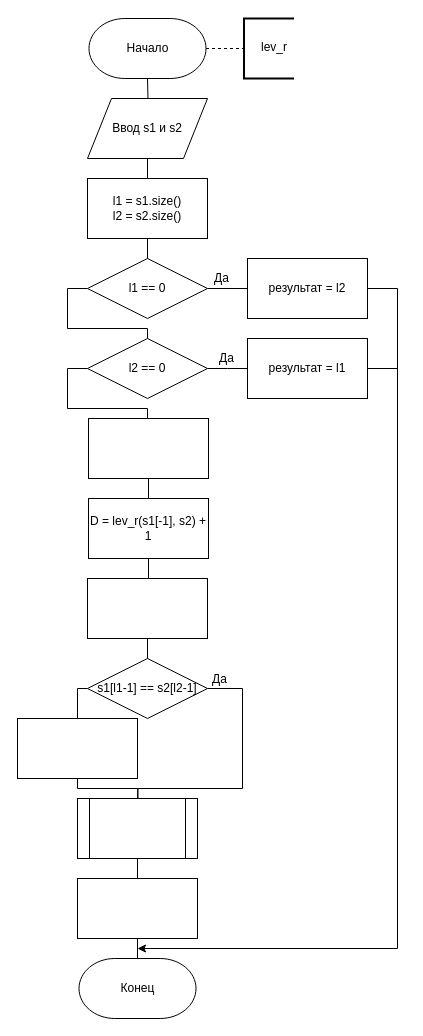
This 423x1036 diagram has some shape labels left out. The shapes that lost their labels are listed below. From the top down, each one's centre as x and y in pixels, then its label:
At point 148,448: "I = lev_r(s1, s2[-1]) + 1".
At point 147,608: "R = lev_r(s1[-1], s2[-1])".
At point 77,748: "R += 1".
At point 137,828: "res = min(D, R, T)".
At point 137,908: "результат = res".
